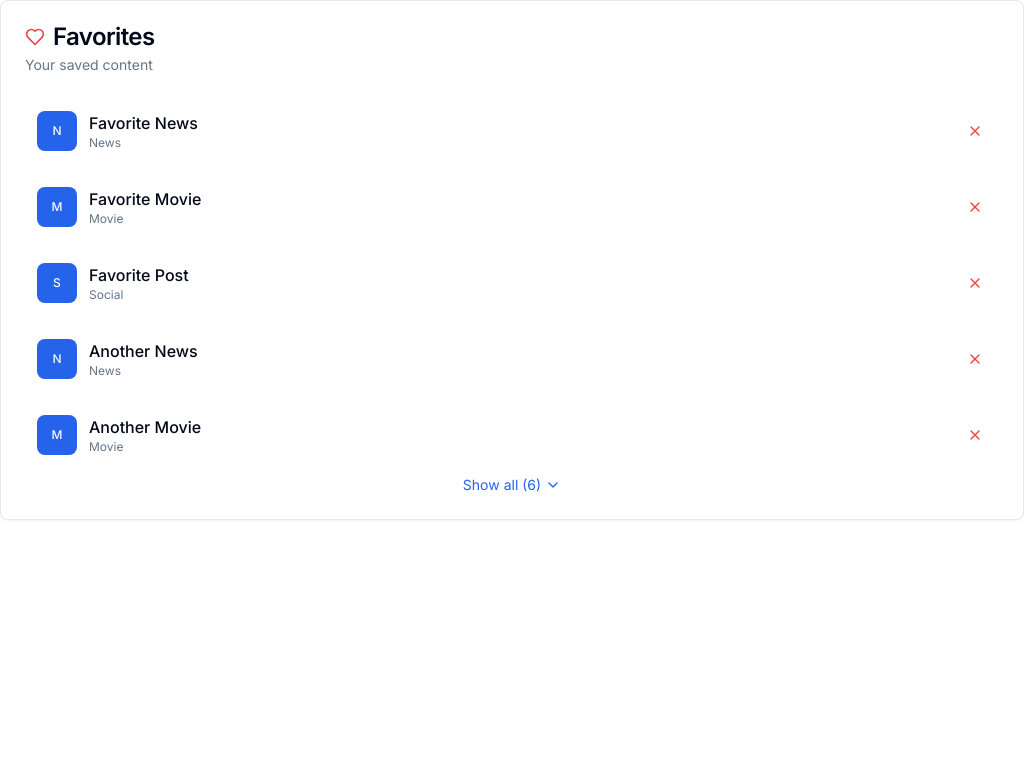
Test case: FavoritesSection › expands and collapses favorites
Click the button "Show all (6)". click: (512,485)
box: [463, 475, 561, 495]
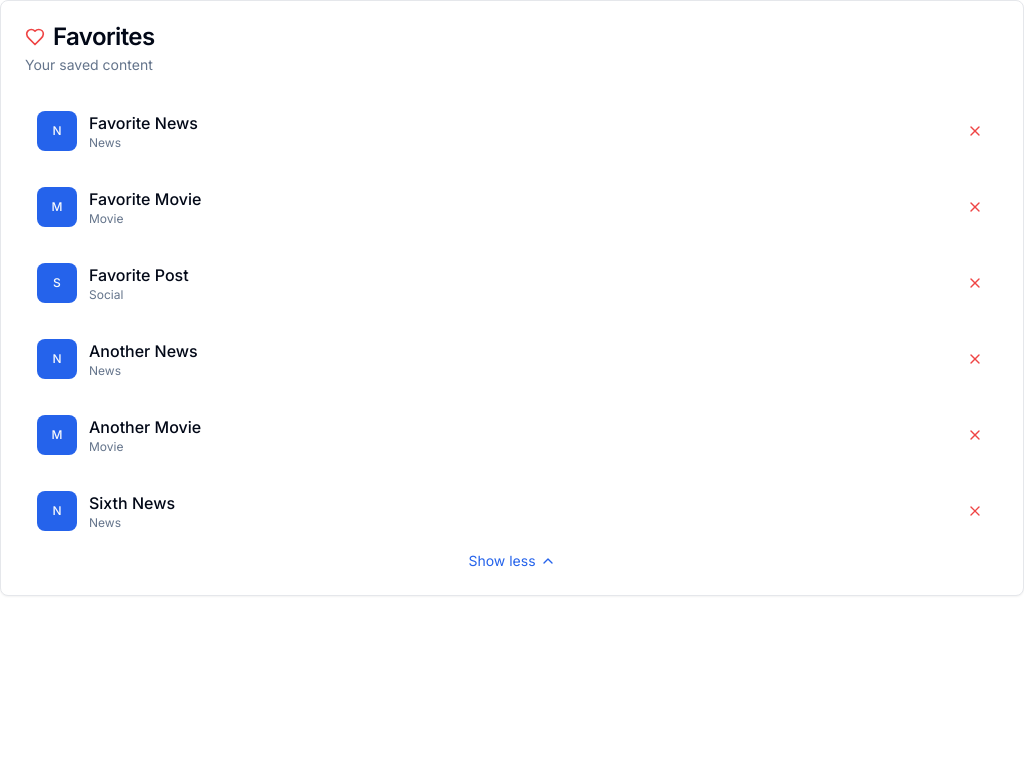
Check: the heading "Sixth News" is shown, box [89, 493, 175, 513]
Click the button "Show less". click: (512,561)
box: [468, 551, 556, 571]
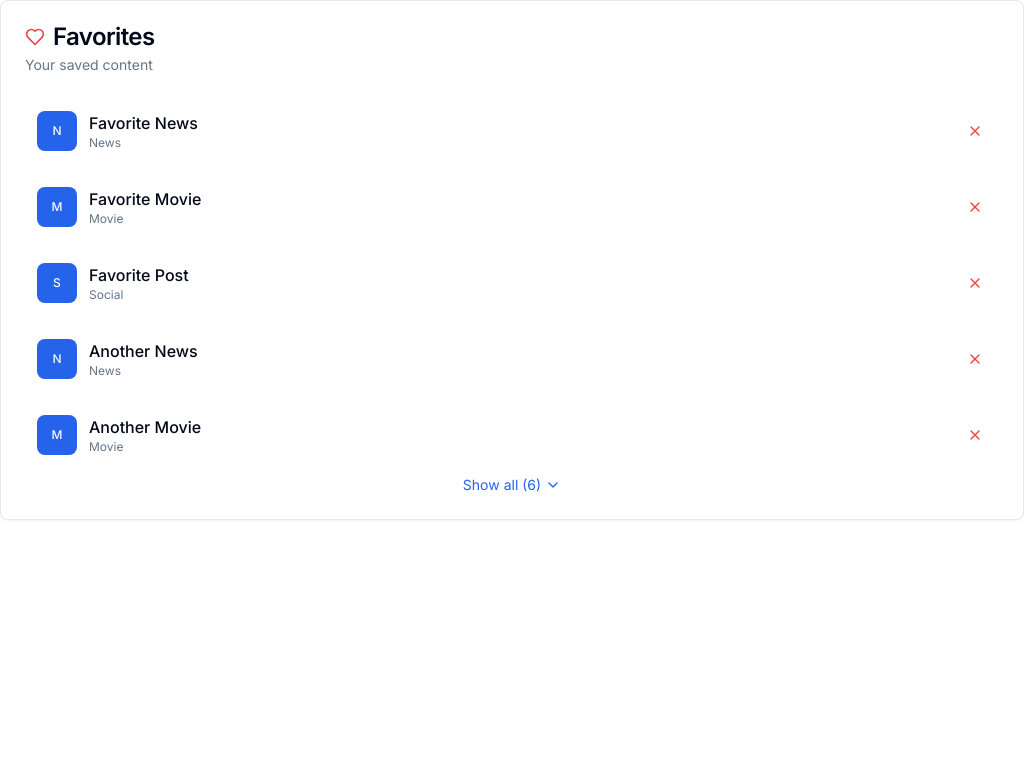
Check: the button "Sixth News" is gone
